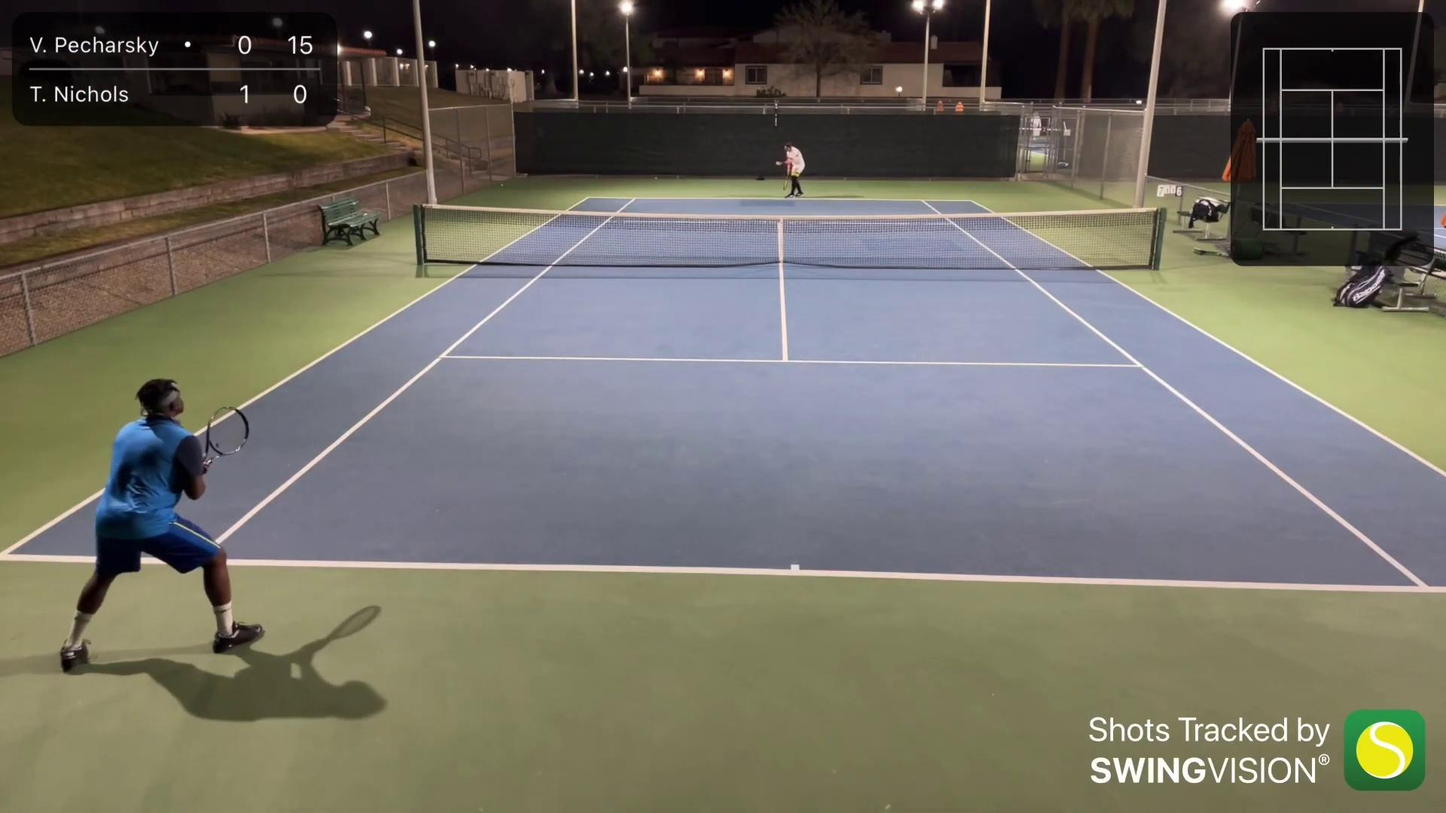ball: (498, 182, 505, 188), (775, 162, 781, 167)
